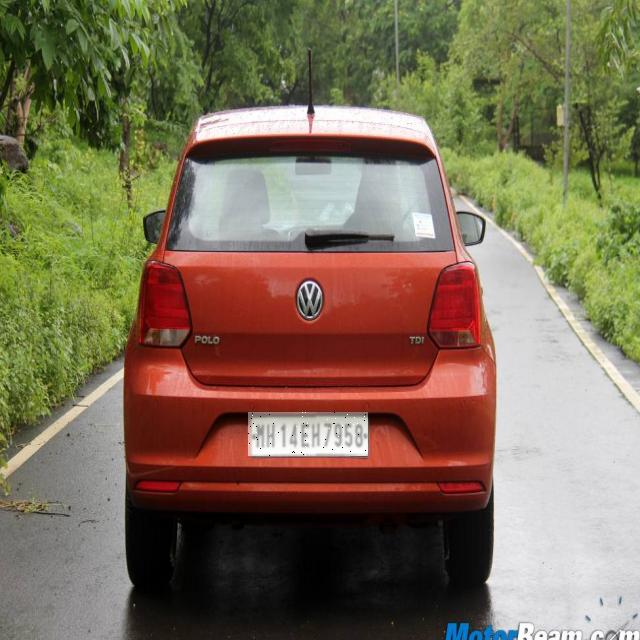Plate: (249, 413, 369, 457)
